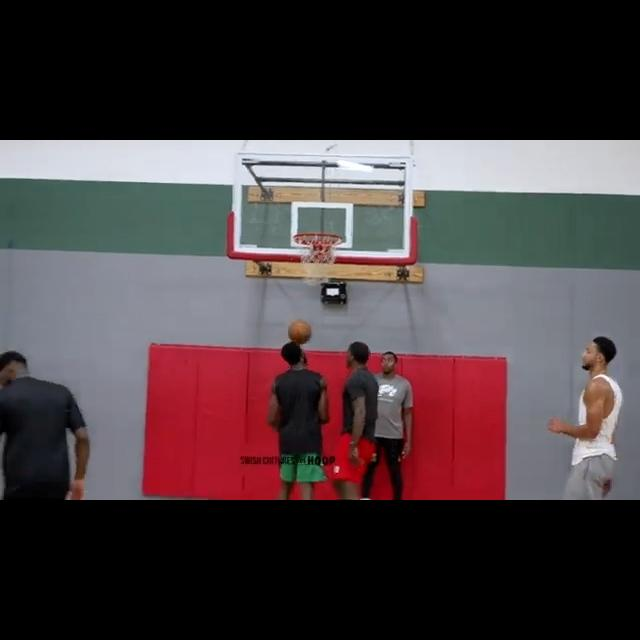basketball: (288, 319, 314, 344)
hoop: (294, 232, 343, 285)
